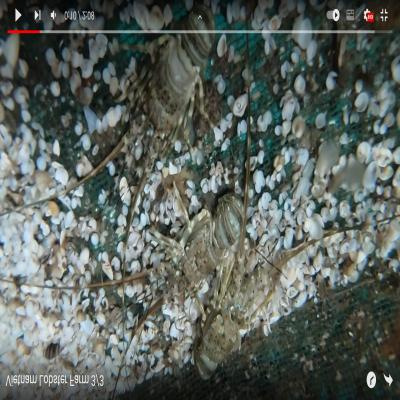lobster: (125, 35, 206, 158), (167, 193, 241, 298), (196, 264, 261, 376)
